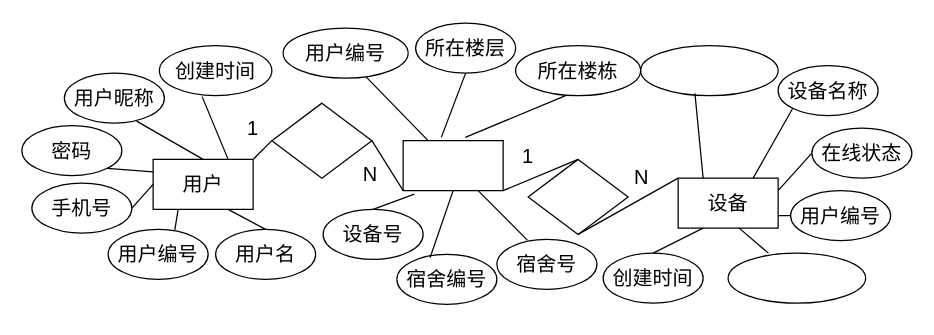
Some shapes in this 934 by 335 pixel diagram are drawn without their labels. Here are the shapes that lost their labels. From the top down, the centre of each, then its label:
At pixel 708 70: "所属产品编号".
At pixel 321 140: "管理".
At pixel 452 165: "宿舍".
At pixel 577 196: "安装".
At pixel 796 277: "最后活跃时间".
